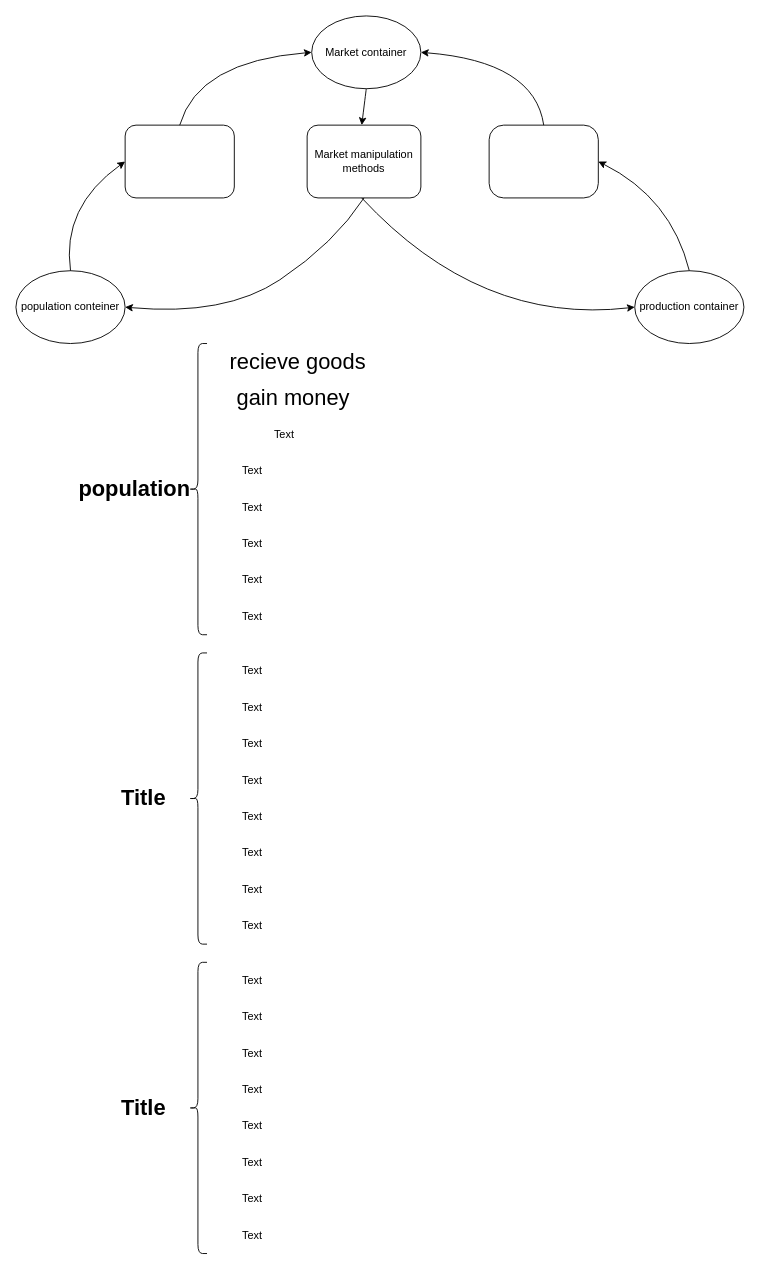
Image size: 760x1269. Some labels were removed from this diagram. Each missing label, with the centre of its shape:
"pop manipulation methods" goes at [179,161].
"prod manipulation methods" goes at [543,161].
